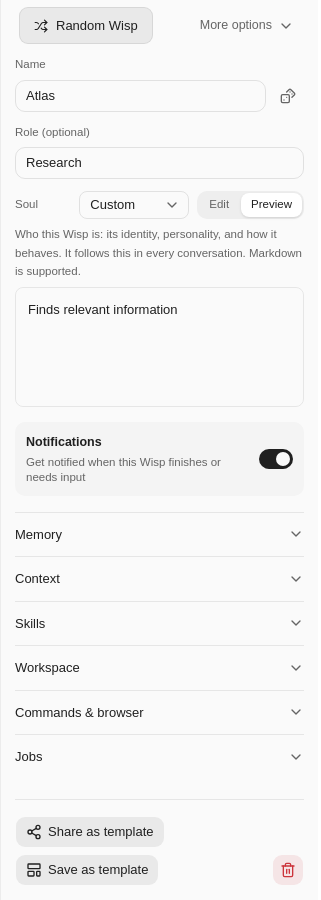
Test: DetailsPanel template sharing › announces clipboard failures
(page scrolled)
Click the button "Share as template": [90, 832] box [15,816,164,848]
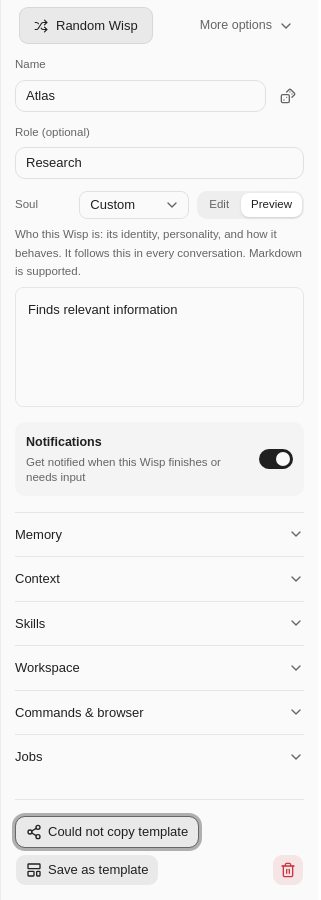
Now the button "Could not copy template" is shown, box [15,816,199,848]
